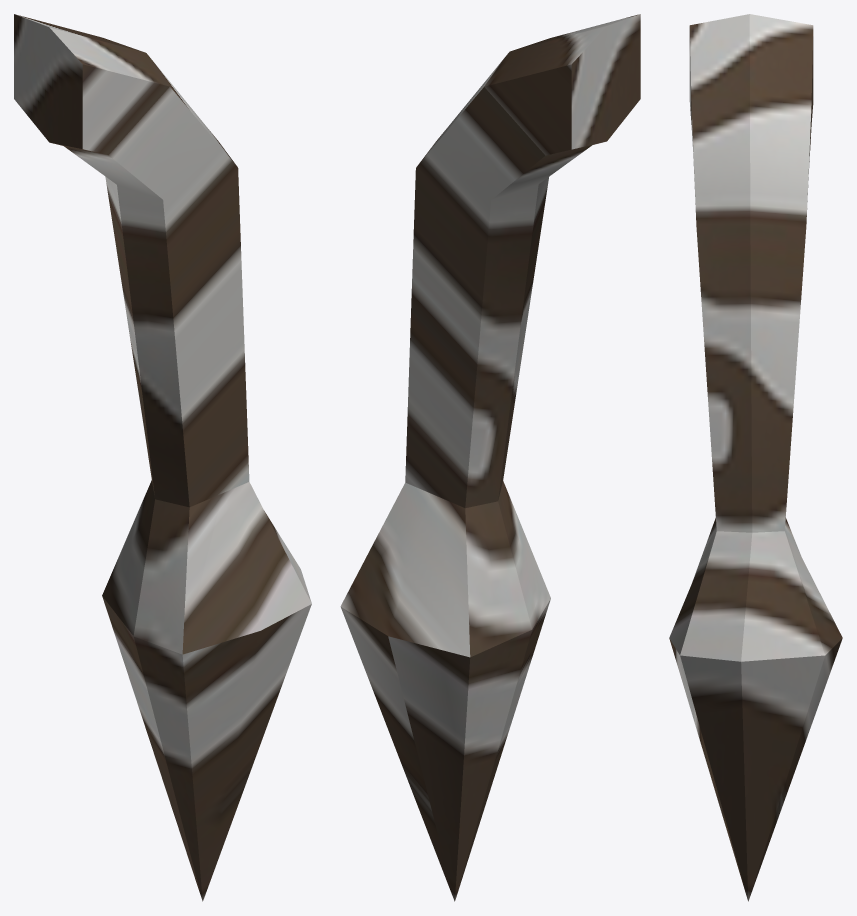
Rendered from SM_Zebre_Tail.fbx.
3 views of the same model, side by side, from view 1: azimuth 30°, elevation 25°; view 2: azimuth 150°, elevation 25°; view 3: azimuth 270°, elevation 25° (orthographic). The views are drawn at different scales.
Visible parts, largest first — view 1: SM_Zebre_Tail; view 2: SM_Zebre_Tail; view 3: SM_Zebre_Tail.
Part boxes in pixels (left/top/right/bottom): SM_Zebre_Tail: left=14, top=14, right=311, bottom=901; SM_Zebre_Tail: left=340, top=14, right=640, bottom=901; SM_Zebre_Tail: left=669, top=14, right=842, bottom=901.
Size of the model in its own units: 7.6 by 26.83 by 5.14.
